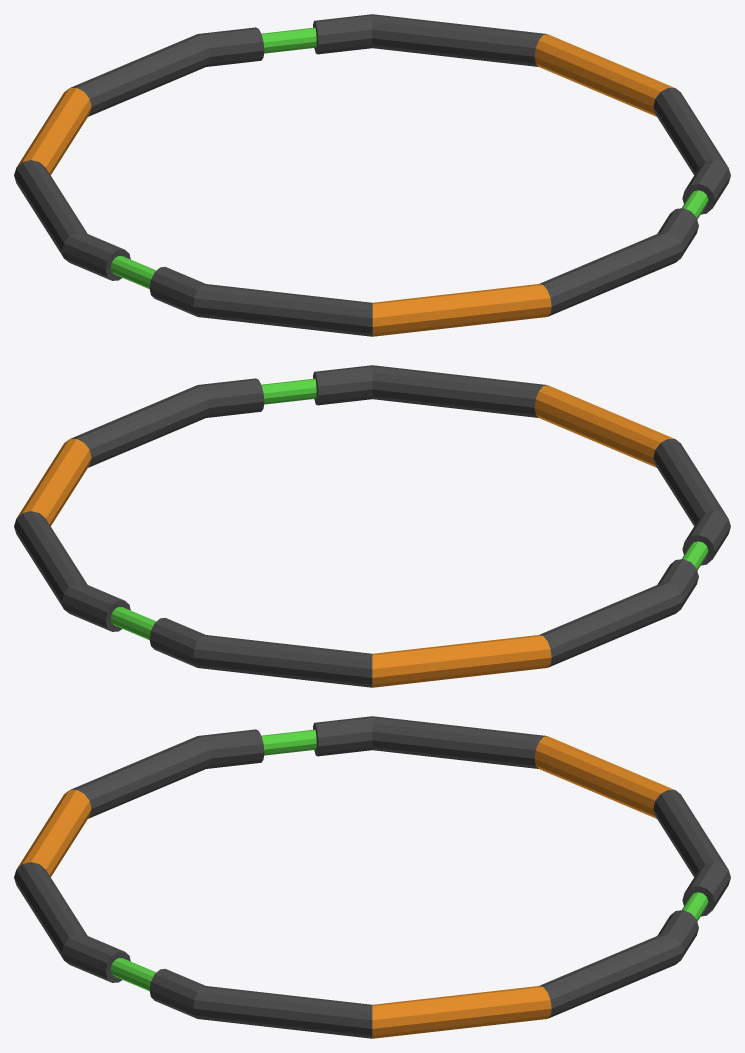
Rendered from ring.fbx.
3 renders of one model, top to bottom at view 1: azimuth 30°, elevation 25°; view 2: azimuth 150°, elevation 25°; view 3: azimuth 270°, elevation 25°, orthographic.
Visible parts, largest first — view 1: Ring; view 2: Ring; view 3: Ring.
Boxes of the visible parts, x1,y1,x2,y2 form: Ring: (14, 14, 730, 336); Ring: (14, 365, 730, 687); Ring: (14, 716, 730, 1038).
Size of the model in its own units: 2100 by 100 by 2100.
